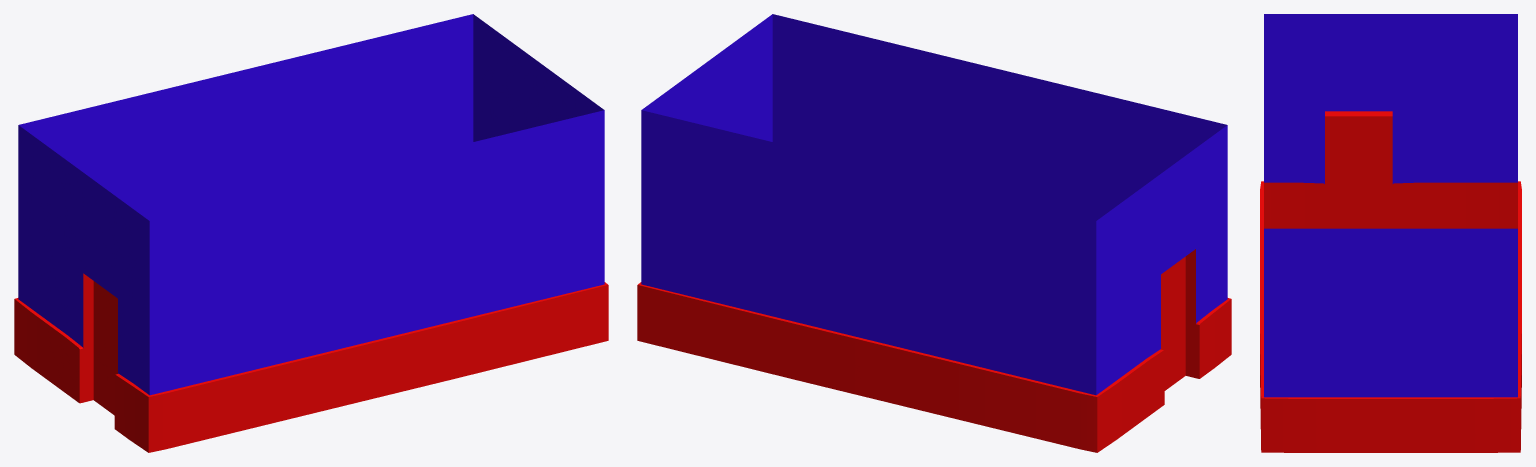
The model's file is Bottom1.fbx.
3 renders of one model, left to right at view 1: azimuth 30°, elevation 25°; view 2: azimuth 150°, elevation 25°; view 3: azimuth 270°, elevation 25°, orthographic. The views are drawn at different scales.
Visible parts, largest first — view 1: B1; view 2: B1; view 3: B1.
Part boxes in pixels (x1,y1,x2,y2): B1: (14,14,608,452); B1: (637,14,1231,452); B1: (1260,14,1521,452).
Size of the model in its own units: 8.12 by 3.87 by 4.12.
